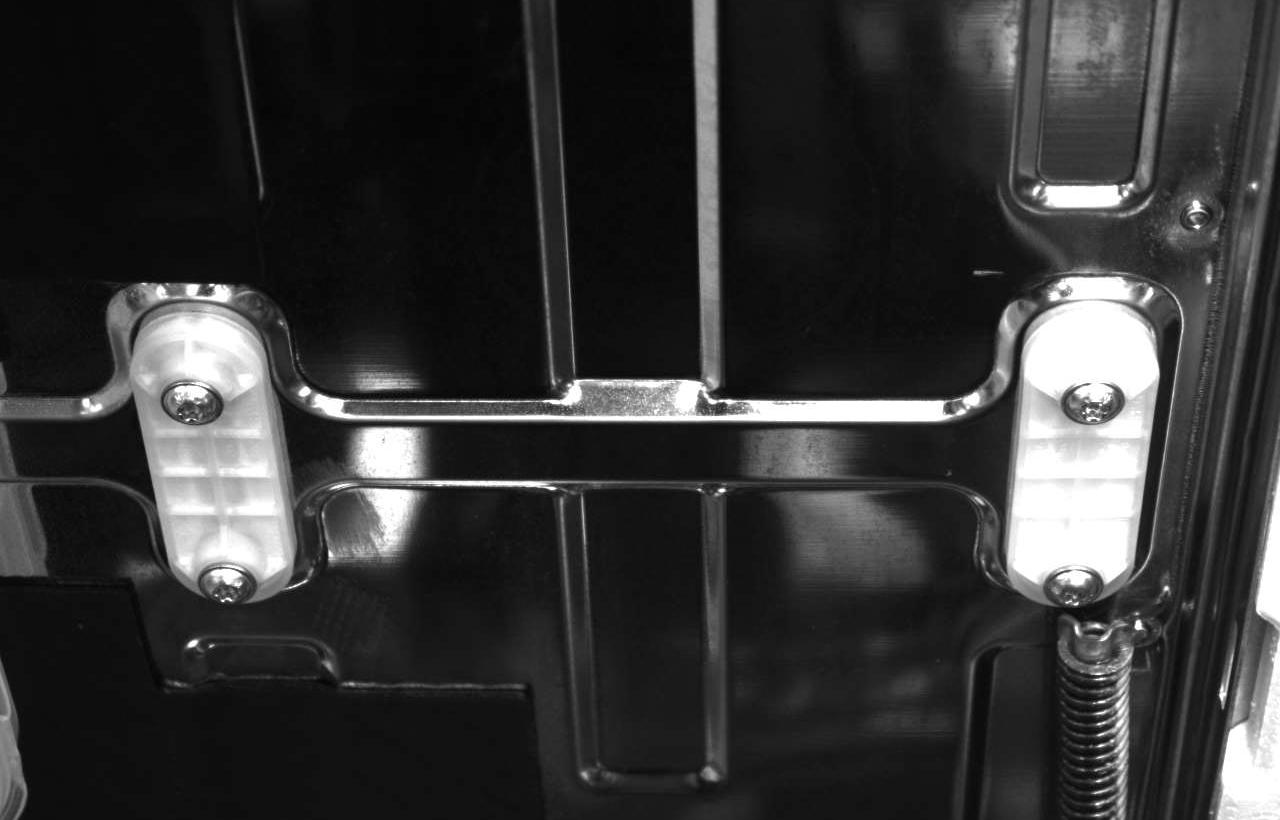vida-ok: (156, 375, 227, 442), (1059, 372, 1126, 439), (196, 552, 261, 611), (1041, 554, 1107, 612)
